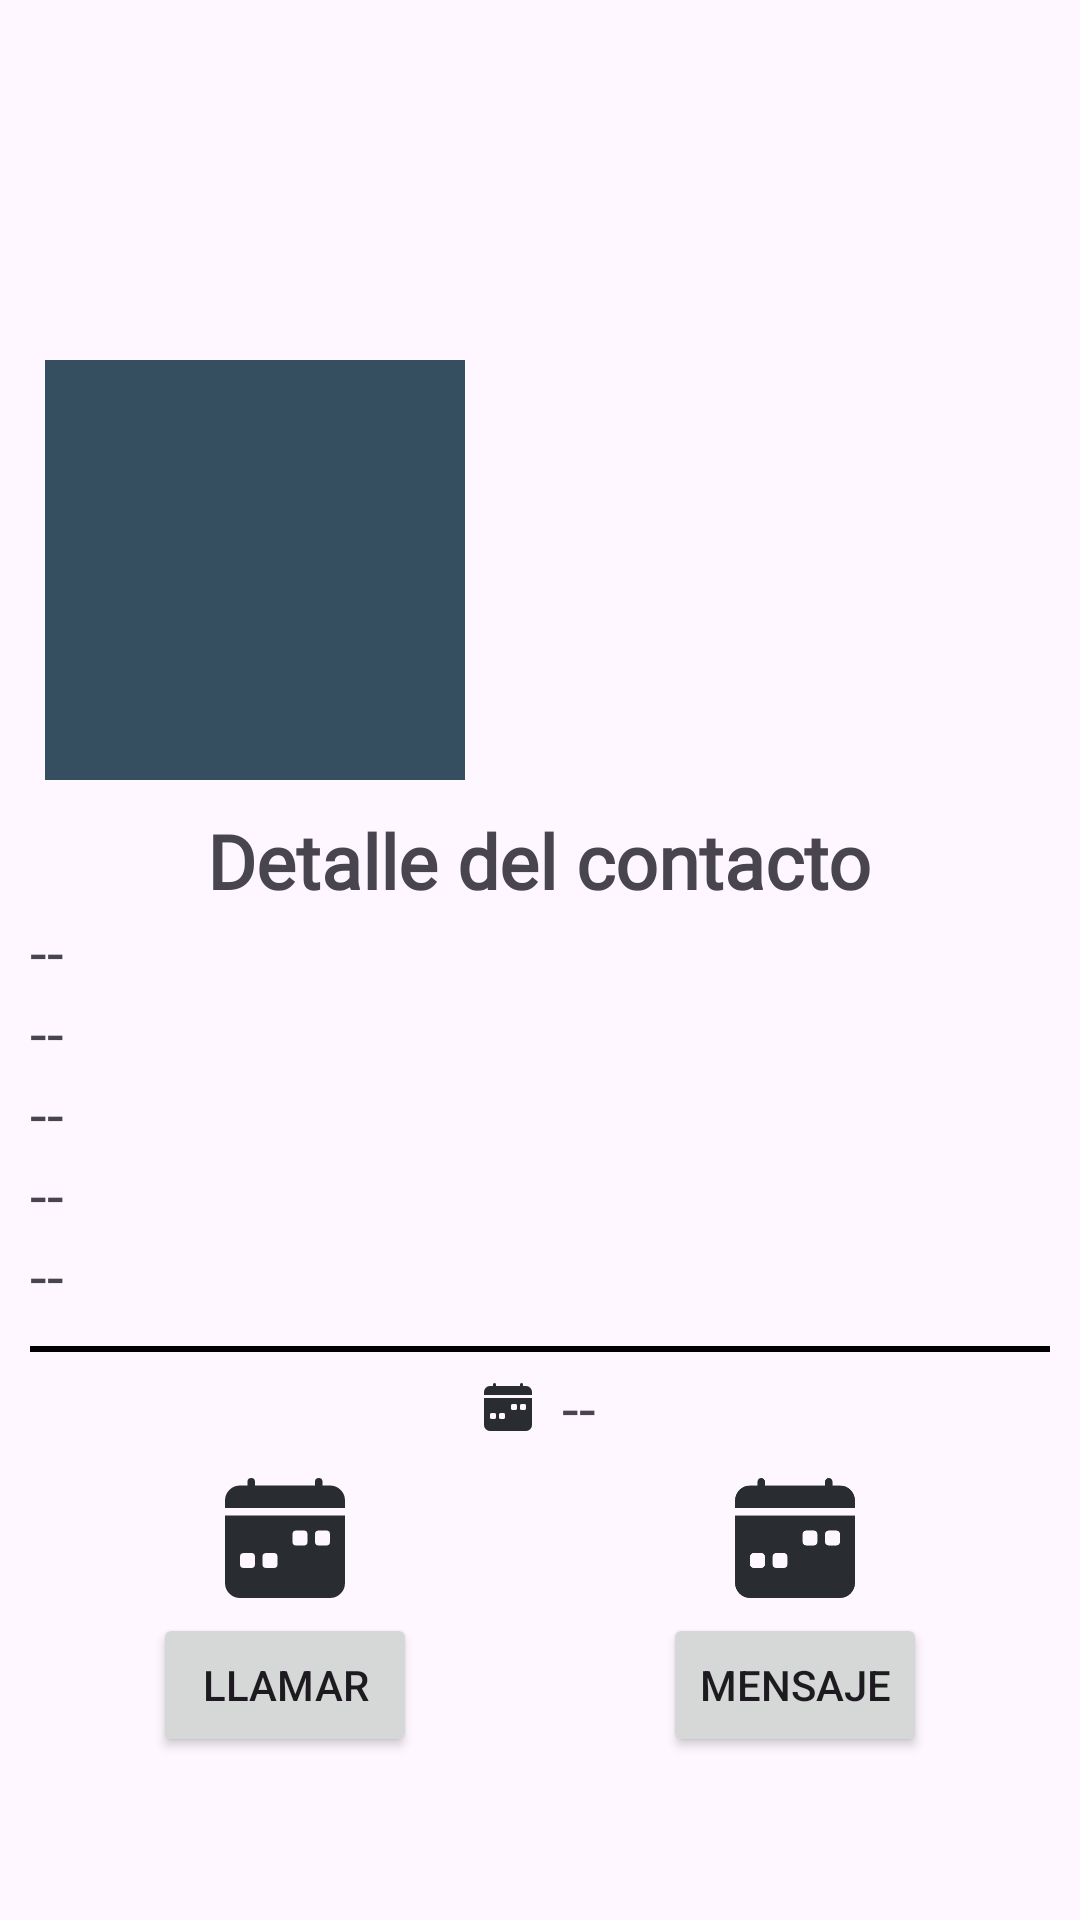

Icons on this 1080px×1920px Android screen, each with the point to tap as (x=x, y=y):
calendar: (x=285, y=1538), (x=795, y=1538)
